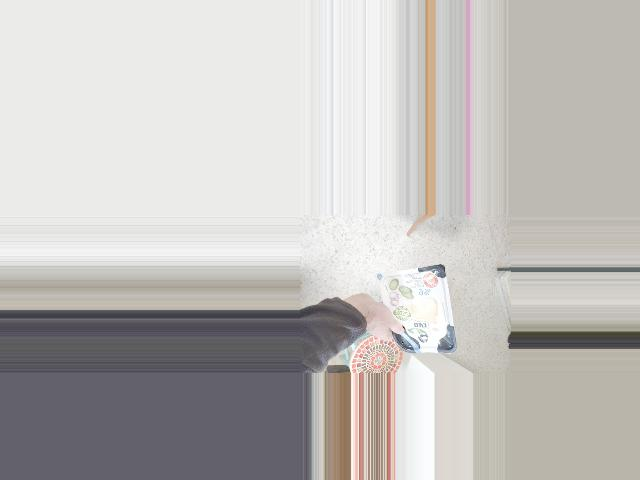cheese: (364, 267, 433, 337)
